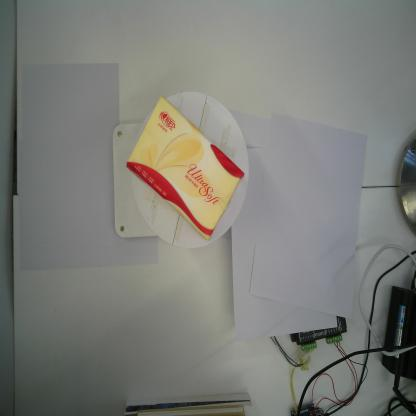Tissue: (126, 95, 245, 241)
